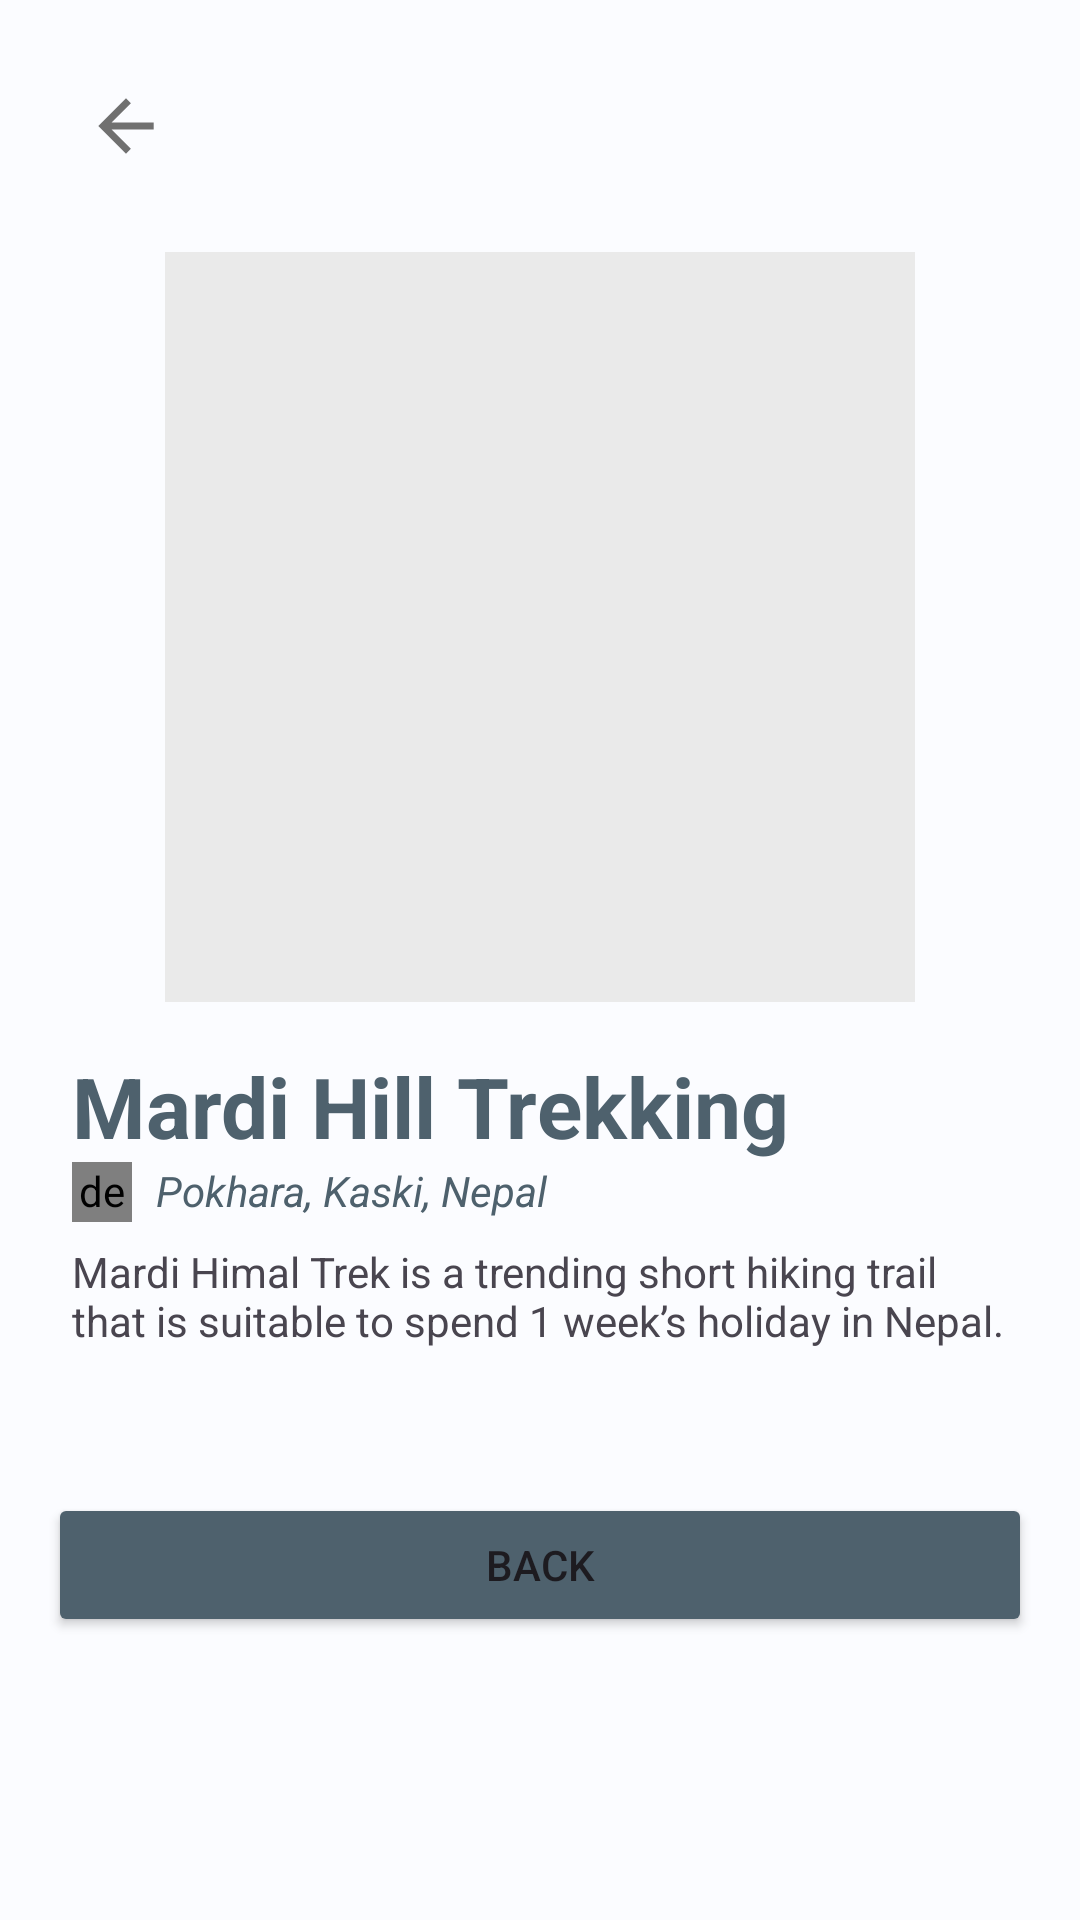

Locate icon controls on the screen. Image size 1080x1920, boxes as (x1, y1, x2, y2).
Back Button: (98, 98, 154, 154)
